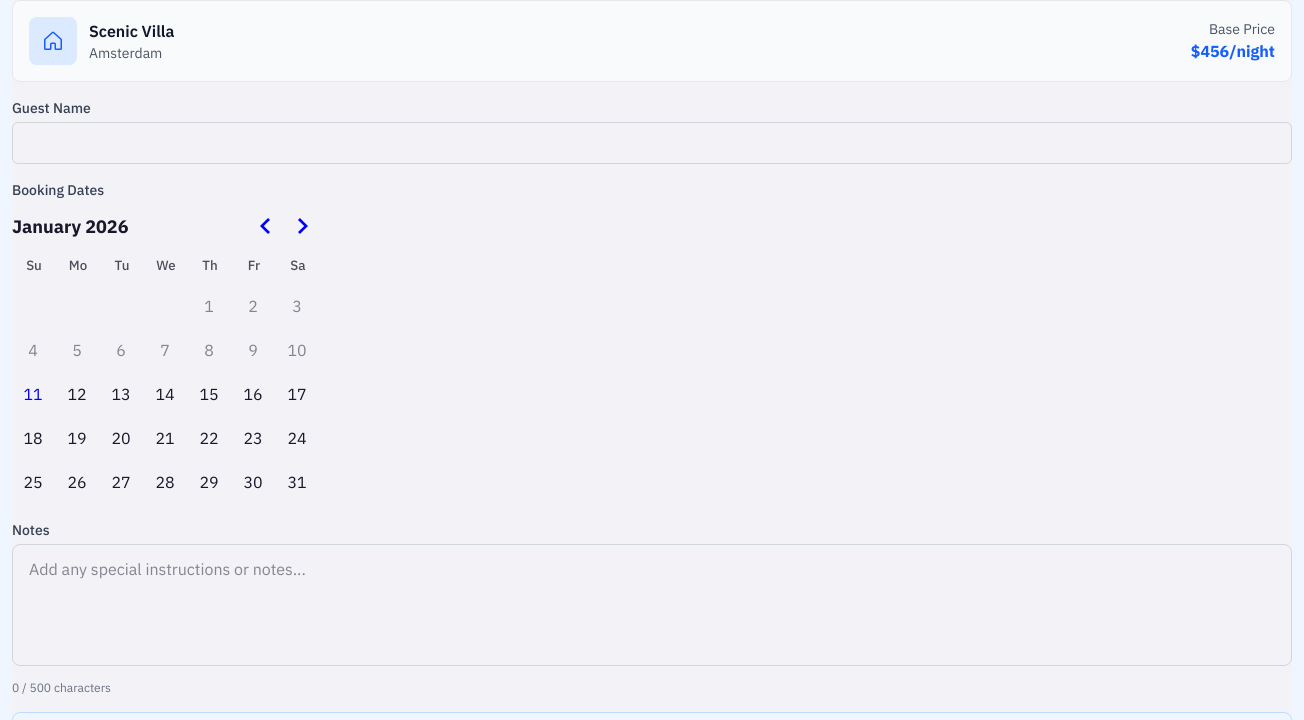
Test: BookingForm › should show character count for notes field
The image size is (1304, 720).
Expected: the text "0 / 500 characters" is shown, [12, 680, 111, 695]
Type "Special request" into the text box labelled "Notes" at [652, 605], box [12, 544, 1292, 666]
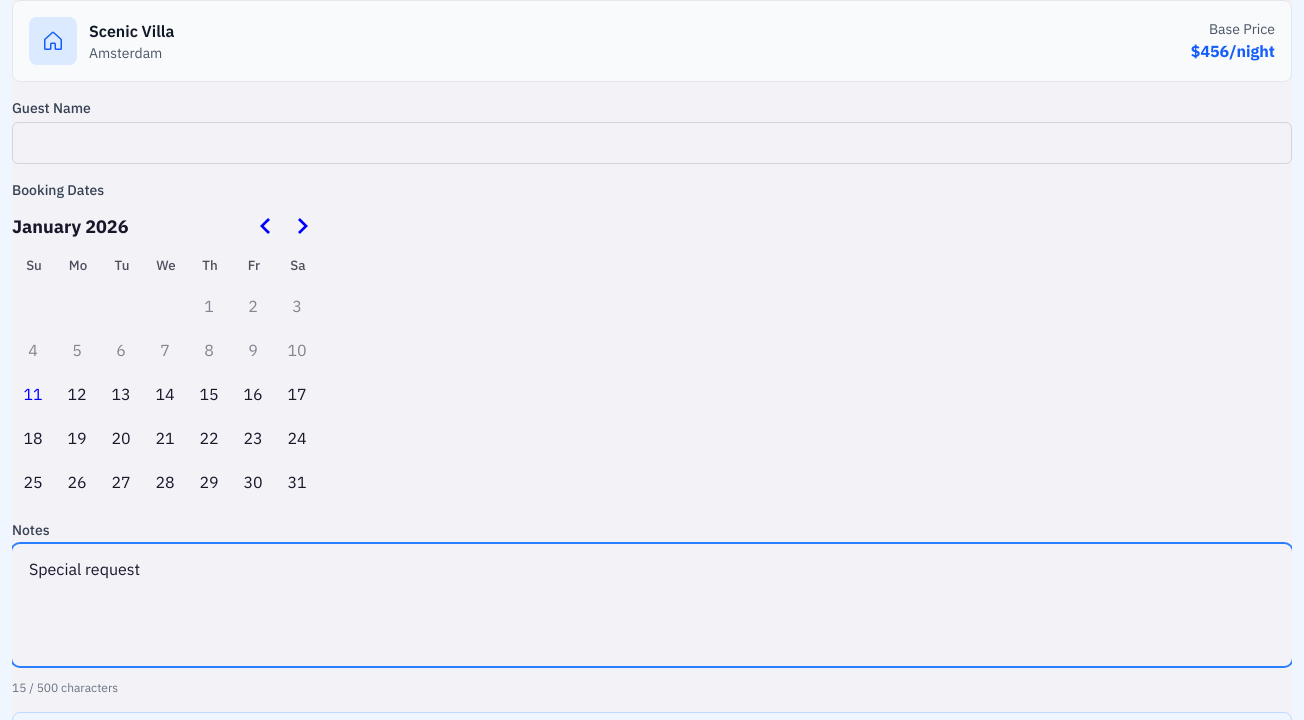
Expected: the text "15 / 500 characters" is shown, [12, 680, 118, 695]
